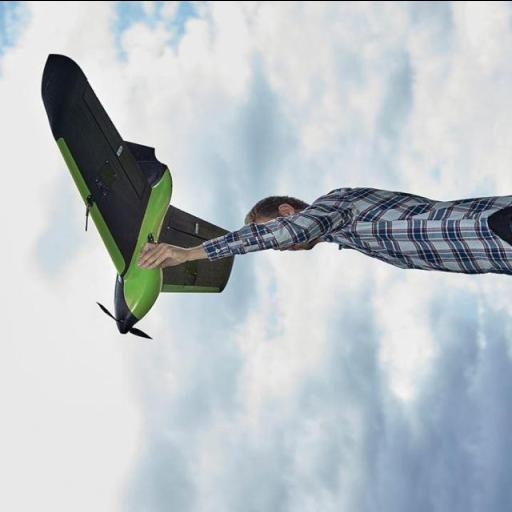uav: (41, 44, 243, 350)
